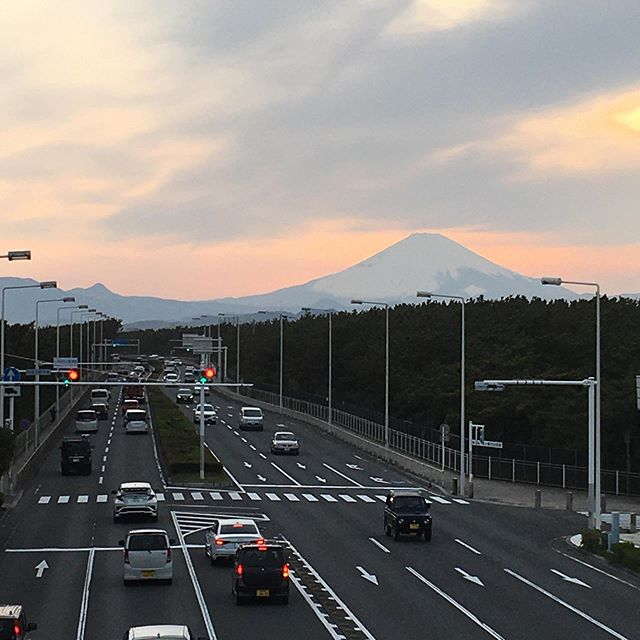car: (116, 520, 174, 590), (377, 479, 438, 545), (194, 513, 265, 566), (233, 540, 293, 599), (116, 485, 160, 520), (263, 424, 304, 456), (232, 401, 273, 433), (117, 407, 156, 438)
crosswalk: (19, 486, 461, 508)
mountain: (241, 204, 580, 305)
sky: (1, 1, 625, 268)
street: (1, 387, 640, 640)
vegetation: (228, 317, 640, 443)
